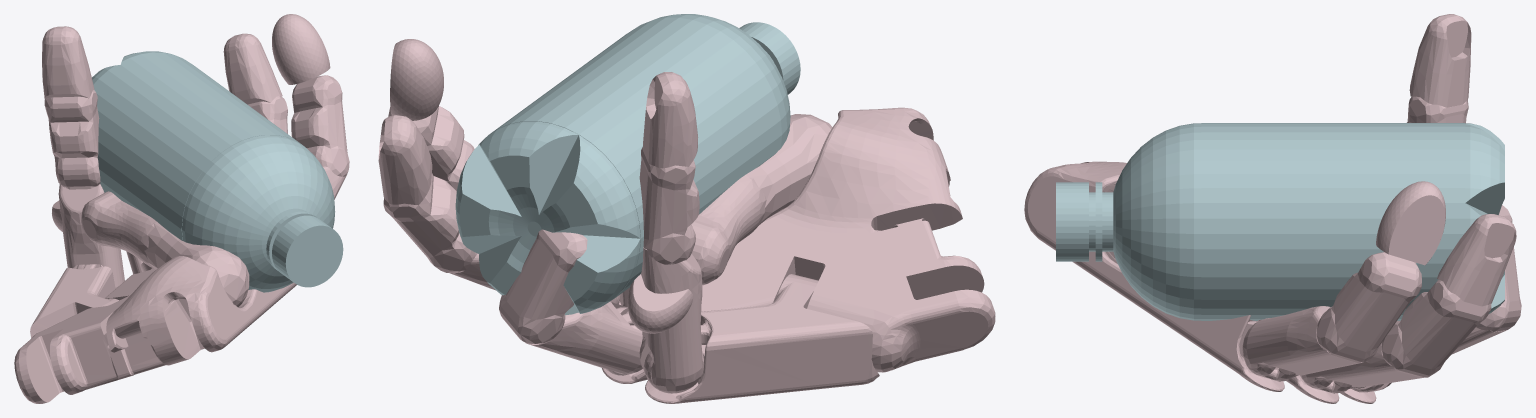
The model's file is grasp_9.glb.
3 views of the same model, side by side, from view 1: azimuth 30°, elevation 25°; view 2: azimuth 150°, elevation 25°; view 3: azimuth 270°, elevation 25° (orthographic). The views are drawn at different scales.
Visible parts, largest first — view 1: world; view 2: world; view 3: world.
Boxes of the visible parts, box(x1,y1,x2,y2) form: world: box(14, 14, 349, 403); world: box(378, 14, 995, 403); world: box(1024, 14, 1521, 403).
Bounding box in the file's own units: 0.1688 × 0.1151 × 0.1512.
